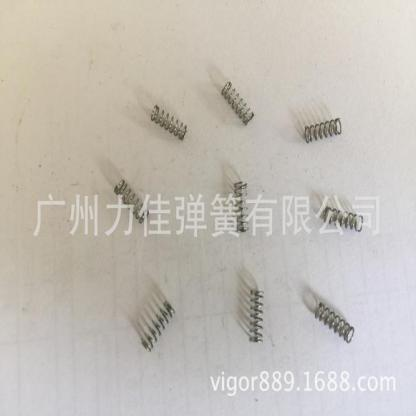FOD: (111, 174, 153, 228), (139, 300, 177, 357), (314, 298, 356, 345), (145, 101, 190, 142), (220, 78, 256, 128), (244, 286, 267, 346), (303, 115, 343, 146), (320, 205, 364, 233), (230, 176, 250, 237)
